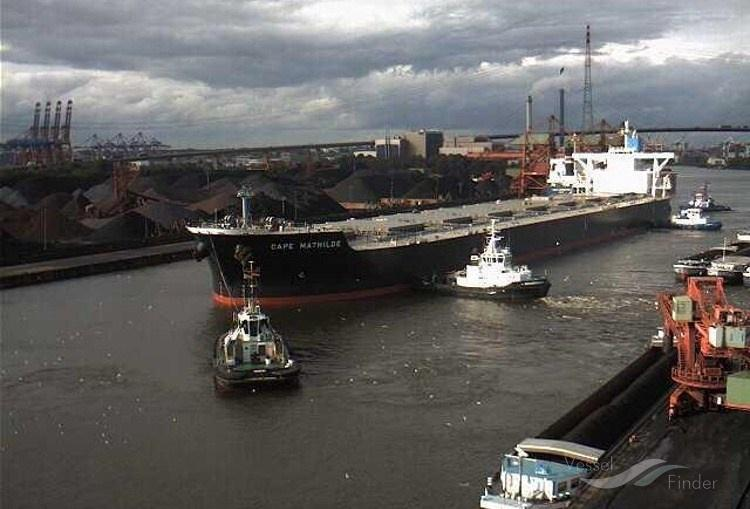OCR: (266, 237, 348, 256)
